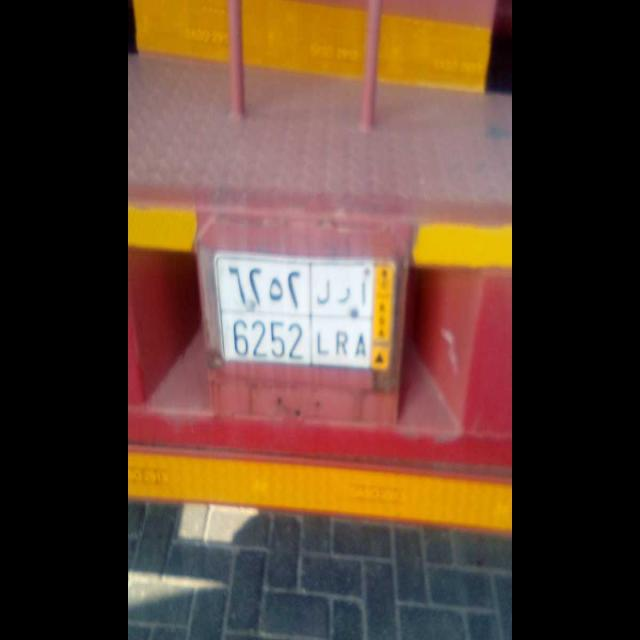license_plate: (220, 306, 371, 372)
